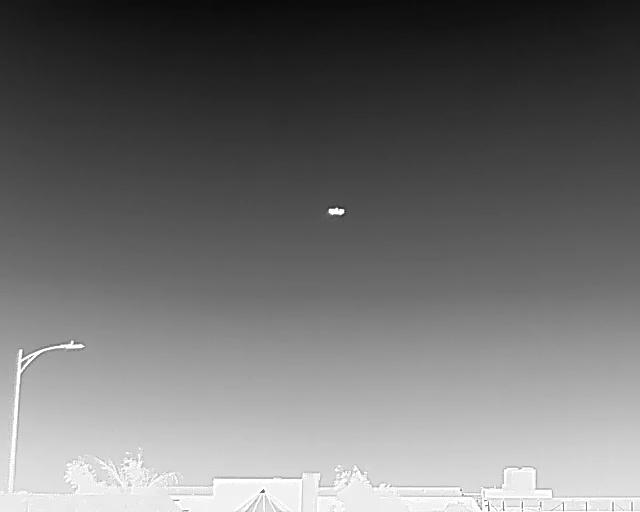fpv-drone: (327, 207, 345, 216)
